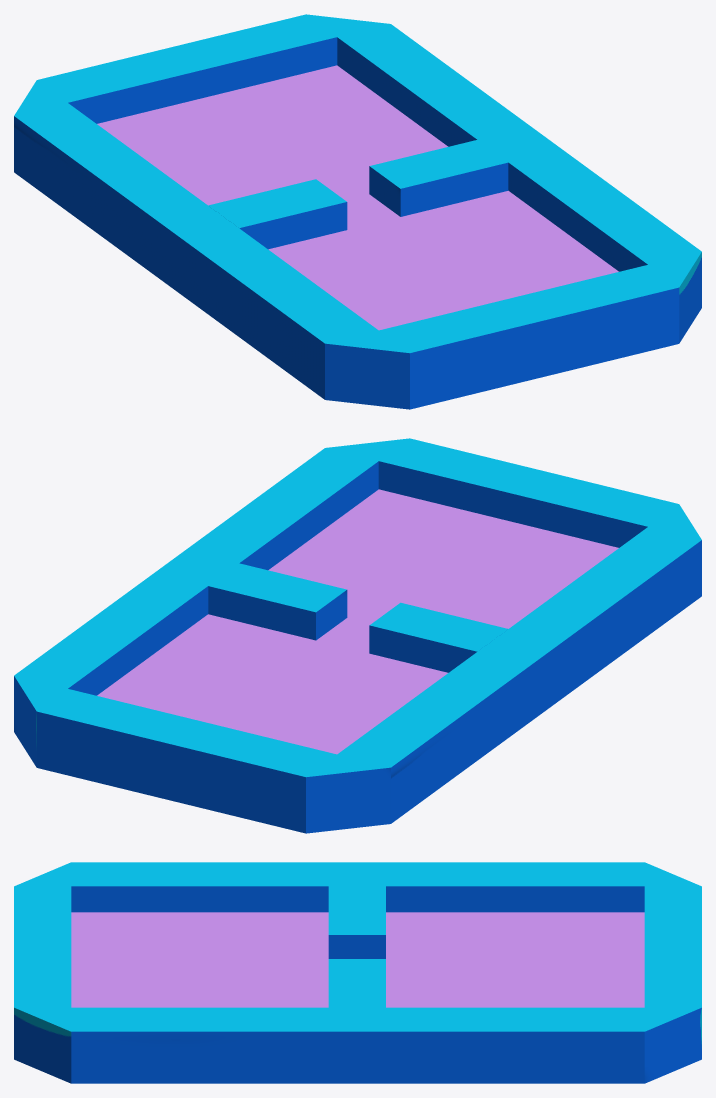
File: table-classic-01.glb
3 renders of one model, top to bottom at view 1: azimuth 30°, elevation 25°; view 2: azimuth 150°, elevation 25°; view 3: azimuth 270°, elevation 25°, orthographic. The views are drawn at different scales.
Parts seen in each view (by area): view 1: Table_Classic; view 2: Table_Classic; view 3: Table_Classic.
Part boxes in pixels (bbox=[...]): Table_Classic: bbox=[14, 14, 701, 409]; Table_Classic: bbox=[14, 438, 701, 833]; Table_Classic: bbox=[14, 862, 701, 1083].
Size of what is drawn, in the model's own units: 14 by 2 by 24.
1 material, 1 textured.
